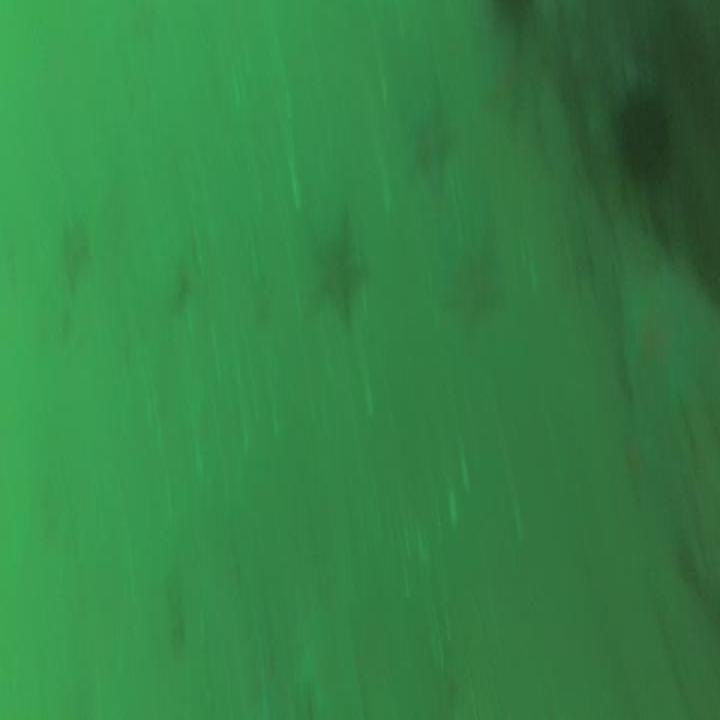echinus: (606, 66, 677, 202)
starfish: (615, 239, 718, 428), (309, 210, 368, 329), (407, 91, 455, 199)
